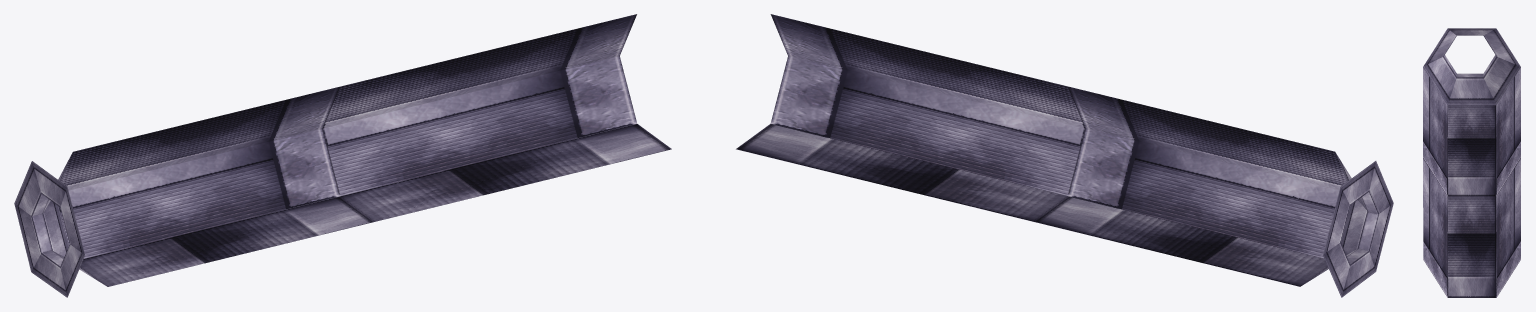
3 renders of one model, left to right at view 1: azimuth 30°, elevation 25°; view 2: azimuth 150°, elevation 25°; view 3: azimuth 270°, elevation 25°, orthographic. The views are drawn at different scales.
Visible parts, largest first — view 1: 13; view 2: 13; view 3: 13.
Part boxes in pixels (x1,y1,x2,y2): 13: (14,14,671,297); 13: (736,14,1393,297); 13: (1423,28,1520,297).
Bounding box in the file's own units: 18092 × 3176 × 3667.
Materials: 2 (2 with a texture image).
